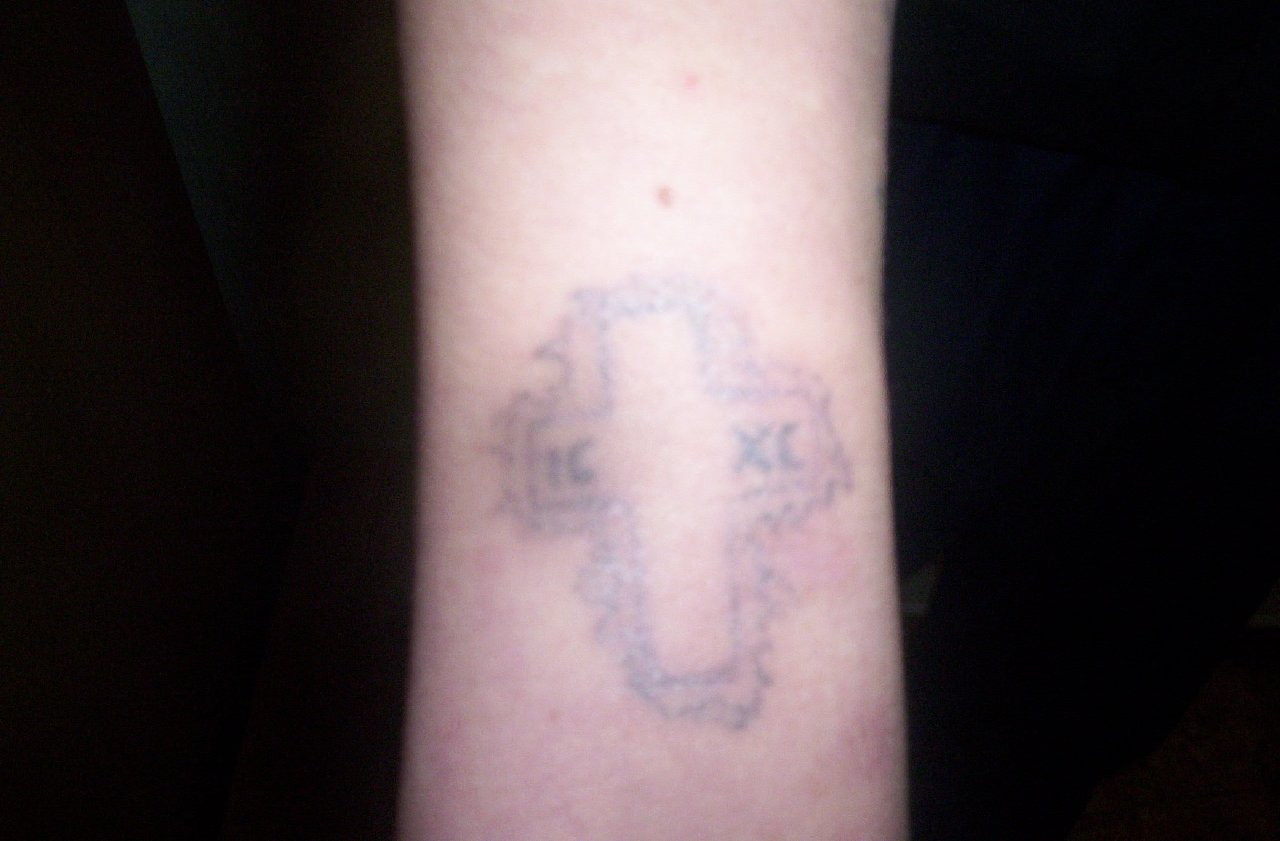tatu9_krest: (499, 265, 861, 725)
